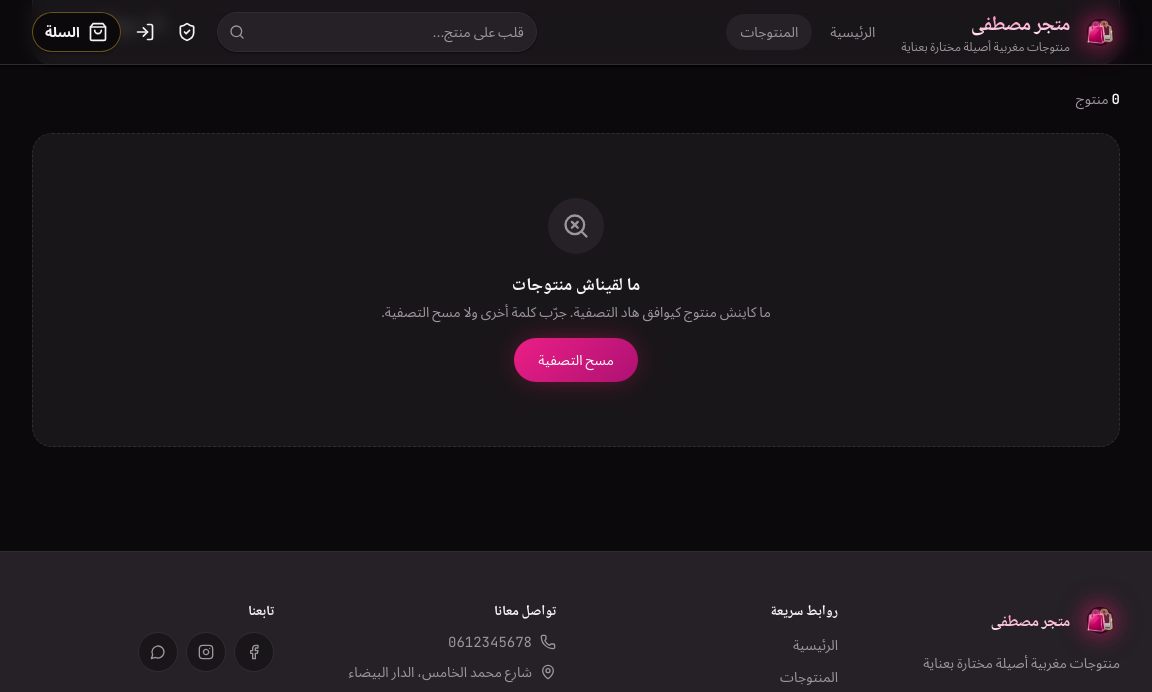
Test: CatalogPage › shows the empty state with a reset action when nothing matches
(page scrolled)
Expected: the heading "ما لقيناش منتوجات" is shown, [512,272,640,295]
Click the button "مسح التصفية" at [576, 360], box [514,338,638,382]
(page scrolled)
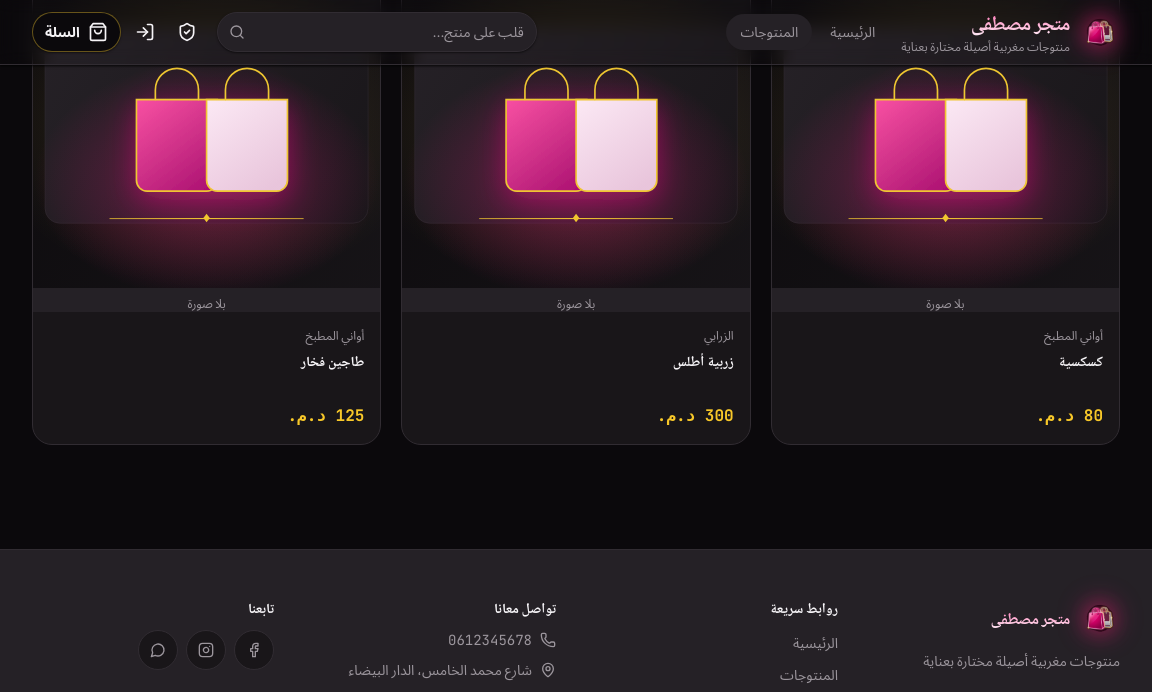
Expected: the heading "طاجين فخار" is shown, [301,352,364,370]
